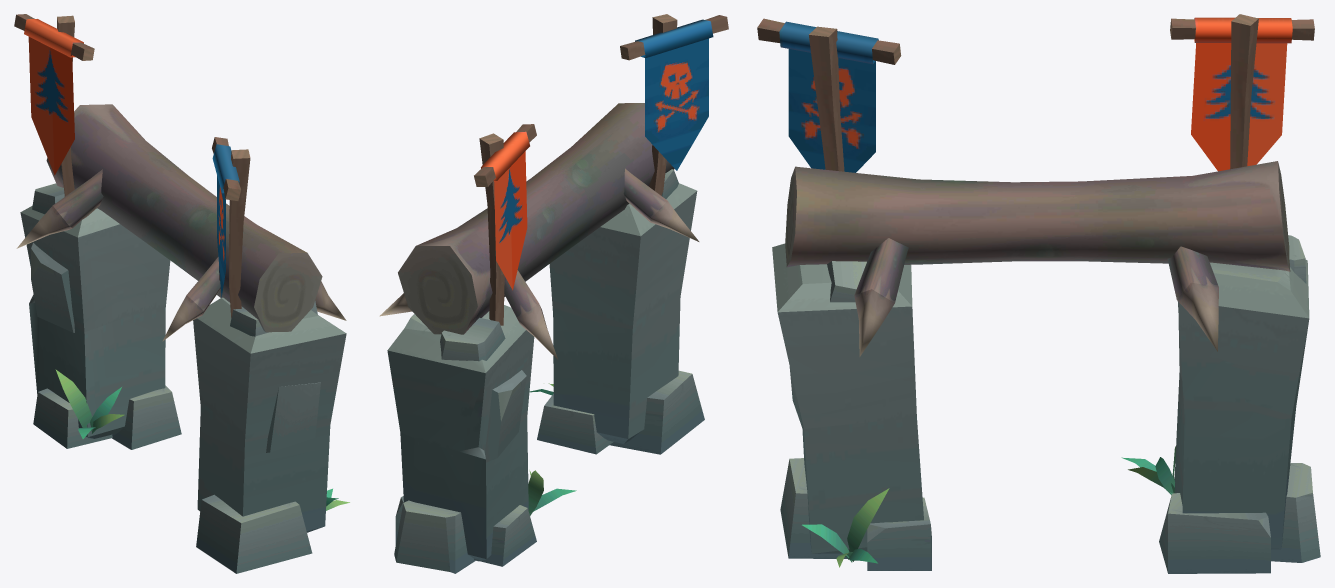
The model's file is WallEntrance2B-001_40_10_8296.fbx.
3 renders of one model, left to right at view 1: azimuth 30°, elevation 25°; view 2: azimuth 150°, elevation 25°; view 3: azimuth 270°, elevation 25°, orthographic. The views are drawn at different scales.
Visible parts, largest first — view 1: Arch, Flag3 (1), Wood1.002 (1) (×2), ClothTop3 (1), Flag2 (2), ClothTop3 (2), WoodTop (1), WoodTop (2); view 2: Arch, Flag2 (2), Flag3 (1), Wood1.002 (1) (×2), ClothTop3 (2), ClothTop3 (1), WoodTop (2), WoodTop (1); view 3: Arch, Flag3 (1), Flag2 (2), Wood1.002 (1) (×2), ClothTop3 (1), ClothTop3 (2), WoodTop (2), WoodTop (1).
Part boxes in pixels (x1,y1,x2,y2): Arch: (16, 104, 349, 573); Flag3 (1): (28, 37, 74, 175); Wood1.002 (1) (×2): (57, 15, 250, 317); ClothTop3 (1): (24, 19, 83, 57); Flag2 (2): (217, 176, 225, 297); ClothTop3 (2): (212, 144, 239, 193); WoodTop (1): (14, 14, 94, 60); WoodTop (2): (212, 137, 240, 200); Arch: (379, 103, 704, 573); Flag2 (2): (645, 38, 708, 170); Flag3 (1): (494, 151, 527, 290); Wood1.002 (1) (×2): (479, 14, 677, 325); ClothTop3 (2): (635, 19, 713, 57); ClothTop3 (1): (481, 131, 529, 180); WoodTop (2): (620, 15, 728, 60); WoodTop (1): (474, 124, 536, 186); Arch: (772, 161, 1320, 573); Flag3 (1): (1191, 43, 1287, 171); Flag2 (2): (788, 49, 875, 172); Wood1.002 (1) (×2): (809, 14, 1258, 171); ClothTop3 (1): (1194, 17, 1292, 43); ClothTop3 (2): (779, 21, 878, 64); WoodTop (2): (757, 18, 901, 64); WoodTop (1): (1170, 18, 1314, 40).
Size of the model in its own units: 2.78 by 6.11 by 6.13.
